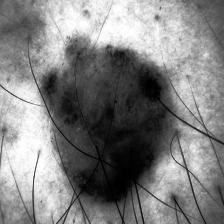Benign Marking or Mole: (41, 33, 178, 204)
